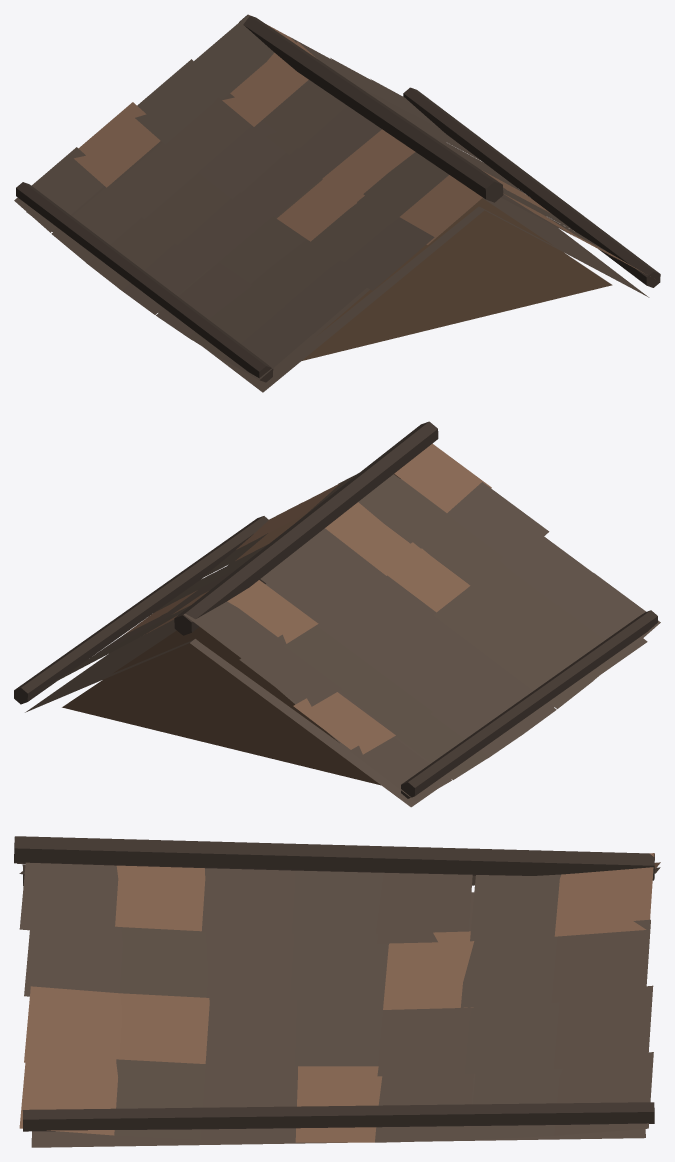
File: roof_shingles.glb
3 renders of one model, top to bottom at view 1: azimuth 30°, elevation 25°; view 2: azimuth 150°, elevation 25°; view 3: azimuth 270°, elevation 25°, orthographic. The views are drawn at different scales.
Parts seen in each view (by area): view 1: weatherboard gable.002, patched ridge.001, bowed eave.002, bowed eave.003, crooked roof underlay.002, uneven overlapping shingles.076, uneven overlapping shingles.069, uneven overlapping shingles.062, uneven overlapping shingles.067, uneven overlapping shingles.075, uneven overlapping shingles.060, uneven overlapping shingles.068 (+23 smaller); view 2: weatherboard gable.003, patched ridge.001, bowed eave.002, bowed eave.003, uneven overlapping shingles.063, uneven overlapping shingles.070, crooked roof underlay.002, uneven overlapping shingles.071, uneven overlapping shingles.057, uneven overlapping shingles.077, uneven overlapping shingles.056, uneven overlapping shingles.064 (+23 smaller); view 3: patched ridge.001, bowed eave.003, uneven overlapping shingles.104, uneven overlapping shingles.091, uneven overlapping shingles.098, uneven overlapping shingles.097, uneven overlapping shingles.094, uneven overlapping shingles.088, uneven overlapping shingles.100, uneven overlapping shingles.103, uneven overlapping shingles.099, uneven overlapping shingles.090 (+19 smaller).
Boxes of the visible parts, <box> form: weatherboard gable.002: <box>302,198,612,360</box>; patched ridge.001: <box>239,14,503,202</box>; bowed eave.002: <box>16,182,273,382</box>; bowed eave.003: <box>403,87,660,287</box>; crooked roof underlay.002: <box>26,85,484,392</box>; uneven overlapping shingles.076: <box>74,102,160,187</box>; uneven overlapping shingles.069: <box>135,59,218,144</box>; uneven overlapping shingles.062: <box>190,14,274,99</box>; uneven overlapping shingles.067: <box>198,120,285,199</box>; uneven overlapping shingles.075: <box>114,142,197,219</box>; uneven overlapping shingles.060: <box>263,80,346,154</box>; uneven overlapping shingles.068: <box>162,93,251,171</box>; weatherboard gable.003: <box>62,626,380,785</box>; patched ridge.001: <box>174,421,438,635</box>; bowed eave.002: <box>401,610,657,798</box>; bowed eave.003: <box>14,516,268,704</box>; uneven overlapping shingles.063: <box>448,482,549,556</box>; uneven overlapping shingles.070: <box>500,530,592,611</box>; crooked roof underlay.002: <box>190,479,647,807</box>; uneven overlapping shingles.071: <box>467,561,556,633</box>; uneven overlapping shingles.057: <box>358,474,446,548</box>; uneven overlapping shingles.077: <box>562,573,660,654</box>; uneven overlapping shingles.056: <box>394,443,491,512</box>; uneven overlapping shingles.064: <box>418,513,503,585</box>; patched ridge.001: <box>14,836,654,880</box>; bowed eave.003: <box>22,1102,654,1131</box>; uneven overlapping shingles.104: <box>553,985,653,1069</box>; uneven overlapping shingles.091: <box>24,920,122,996</box>; uneven overlapping shingles.098: <box>24,986,122,1062</box>; uneven overlapping shingles.097: <box>551,919,650,1003</box>; uneven overlapping shingles.094: <box>290,934,386,1000</box>; uneven overlapping shingles.088: <box>375,872,472,943</box>; uneven overlapping shingles.100: <box>205,998,296,1074</box>; uneven overlapping shingles.103: <box>464,993,559,1073</box>; uneven overlapping shingles.099: <box>119,993,209,1063</box>; uneven overlapping shingles.090: <box>554,853,654,936</box>.
Size of the model in its own units: 1.41 by 0.54 by 1.52.
